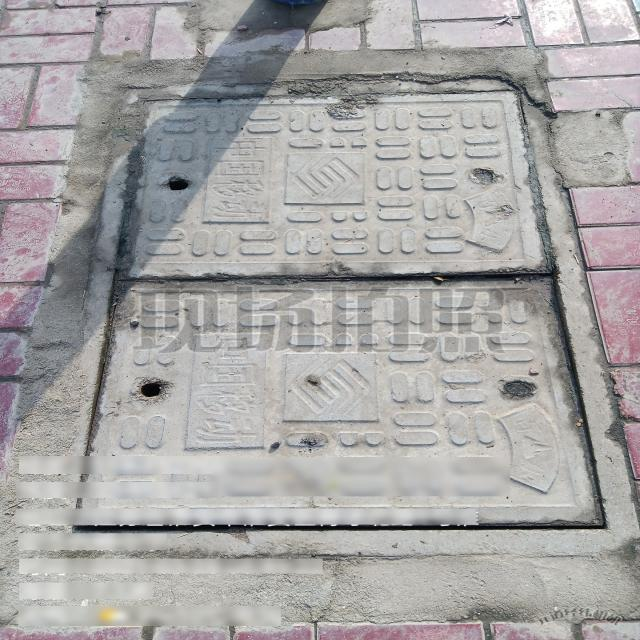Good: (48, 77, 640, 557)
